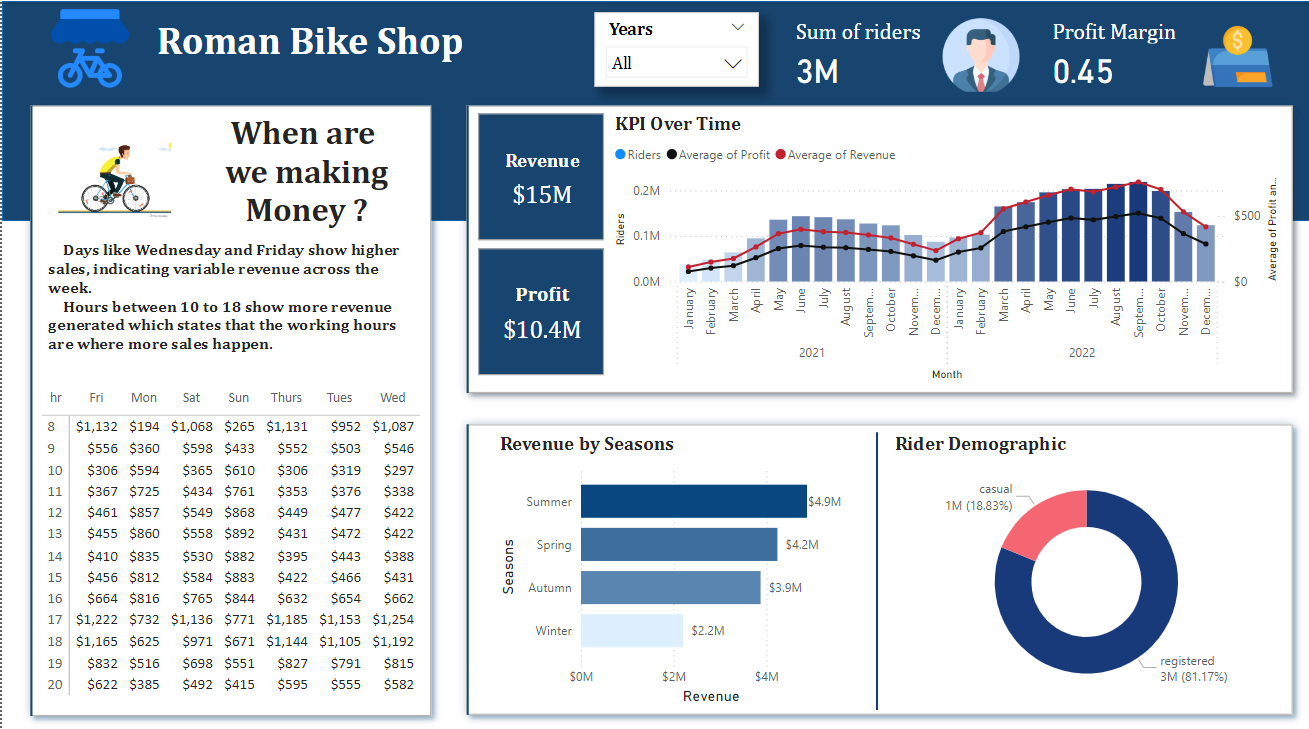

The page's visual inventory and layout, read from the dashboard file:
{"tool":"powerbi","page":{"name":"Page 1","canvas":[1280,720],"ordinal":0},"visuals":[{"type":"shape","box":[0,0,1280.3,215.4],"z":0},{"type":"cardVisual","fields":{"Data":["Sum(Bike_Sales_fact.Profit)"]},"box":[11,85.1,426.8,631.2],"z":1000},{"type":"cardVisual","fields":{"Data":["Sum(Bike_Sales_fact.Profit)"]},"box":[437.7,397.9,842.5,318.4],"z":2000},{"type":"cardVisual","fields":{"Data":["Sum(Bike_Sales_fact.Profit)"]},"box":[437.7,85.1,842.5,315.6],"z":3000},{"type":"cardVisual","fields":{"Data":["Sum(Bike_Sales_fact.Profit)"]},"box":[34.3,105.7,156.4,137.2],"z":4000},{"type":"pivotTable","fields":{"Rows":["Bike_Sales_fact.hr"],"Columns":["Bike_Sales_fact.Weekdays"],"Values":["Avg(Bike_Sales_fact.Revenue)"]},"box":[34.3,373.2,381.5,317],"z":5000},{"type":"textbox","box":[190.7,105.7,214.1,123.5],"z":6000},{"type":"textbox","box":[39.8,229.2,365,146.8],"z":7000},{"type":"lineClusteredColumnComboChart","title":"KPI Over Time","fields":{"Category":["Bike_Sales_fact.dteday.Variation.Date Hierarchy.Year","Bike_Sales_fact.dteday.Variation.Date Hierarchy.Month"],"Y":["Sum(Bike_Sales_fact.riders)"],"Y2":["Avg(Bike_Sales_fact.Profit)","Avg(Bike_Sales_fact.Revenue)"]},"box":[594.2,108.4,660,267.6],"z":8000},{"type":"barChart","fields":{"Y":["Sum(Bike_Sales_fact.Revenue)"],"Category":["Bike_Sales_fact.Seasons"]},"box":[481.6,421.3,356.8,271.7],"z":9000},{"type":"donutChart","title":"Rider Demographic","fields":{"Category":["Bike_Sales_fact.rider_type"],"Y":["Sum(Bike_Sales_fact.riders)"]},"box":[868.6,421.3,385.6,271.7],"z":10000},{"type":"shape","box":[800,421.3,112.5,271.7],"z":11000},{"type":"cardVisual","title":"KPI Over Time","fields":{"Data":["Sum(Bike_Sales_fact.Revenue)","Sum(Bike_Sales_fact.Profit)"]},"box":[461.1,105.7,133.1,267.6],"z":12000},{"type":"cardVisual","fields":{"Data":["Sum(Bike_Sales_fact.riders)","Bike_Sales_fact.Profit Margin"]},"box":[758.8,0,505,94.7],"z":13000},{"type":"textbox","box":[146.8,12.3,334.8,71.4],"z":14000},{"type":"image","box":[42.5,0,86.4,93.3],"z":15000},{"type":"slicer","fields":{"Values":["Bike_Sales_fact.Years"]},"box":[579.1,11,160.5,72.7],"z":16000}]}

Visuals, with their boxes in screenshot pixels (x1, y1, x2, y2), scaled from the page's 1280x720 canvas onto the 1309x729 screenshot:
shape: detection(0, 0, 1308, 218)
cardVisual - Sum(Bike_Sales_fact.Profit): detection(11, 86, 448, 725)
cardVisual - Sum(Bike_Sales_fact.Profit): detection(448, 403, 1308, 725)
cardVisual - Sum(Bike_Sales_fact.Profit): detection(448, 86, 1308, 406)
cardVisual - Sum(Bike_Sales_fact.Profit): detection(35, 107, 195, 246)
pivotTable - Bike_Sales_fact.hr x Bike_Sales_fact.Weekdays: detection(35, 378, 425, 699)
textbox: detection(195, 107, 414, 232)
textbox: detection(41, 232, 414, 381)
"KPI Over Time" lineClusteredColumnComboChart: detection(608, 110, 1283, 381)
barChart - Sum(Bike_Sales_fact.Revenue) x Bike_Sales_fact.Seasons: detection(493, 427, 857, 702)
"Rider Demographic" donutChart: detection(888, 427, 1283, 702)
shape: detection(818, 427, 933, 702)
"KPI Over Time" cardVisual: detection(472, 107, 608, 378)
cardVisual - Sum(Bike_Sales_fact.riders) x Bike_Sales_fact.Profit Margin: detection(776, 0, 1292, 96)
textbox: detection(150, 12, 493, 85)
image: detection(43, 0, 132, 94)
slicer - Bike_Sales_fact.Years: detection(592, 11, 756, 85)
